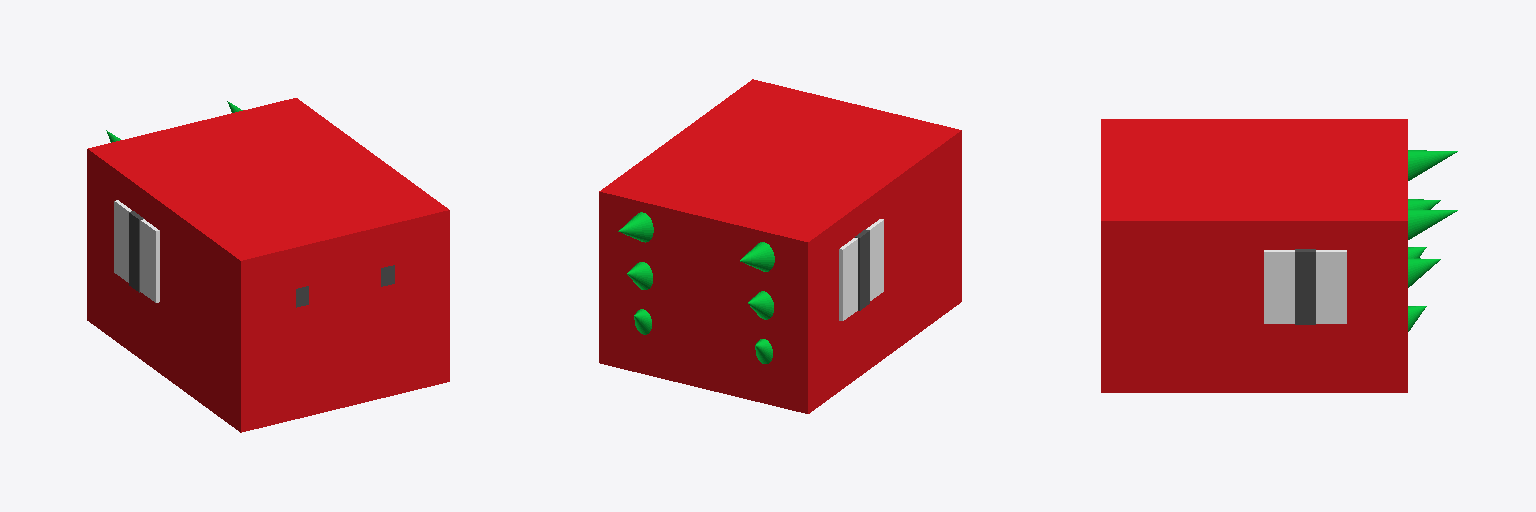
3 views of the same model, side by side, from view 1: azimuth 30°, elevation 25°; view 2: azimuth 150°, elevation 25°; view 3: azimuth 270°, elevation 25° (orthographic).
Parts seen in each view (by area): view 1: red_head:Mesh; view 2: red_head:Mesh; view 3: red_head:Mesh.
Part boxes in pixels (left/top/right/bottom): red_head:Mesh: left=87, top=98, right=449, bottom=432; red_head:Mesh: left=599, top=79, right=961, bottom=413; red_head:Mesh: left=1101, top=119, right=1457, bottom=392.
Size of the model in its own units: 2.93 by 2.2 by 4.14.
1 materials, 1 textured.